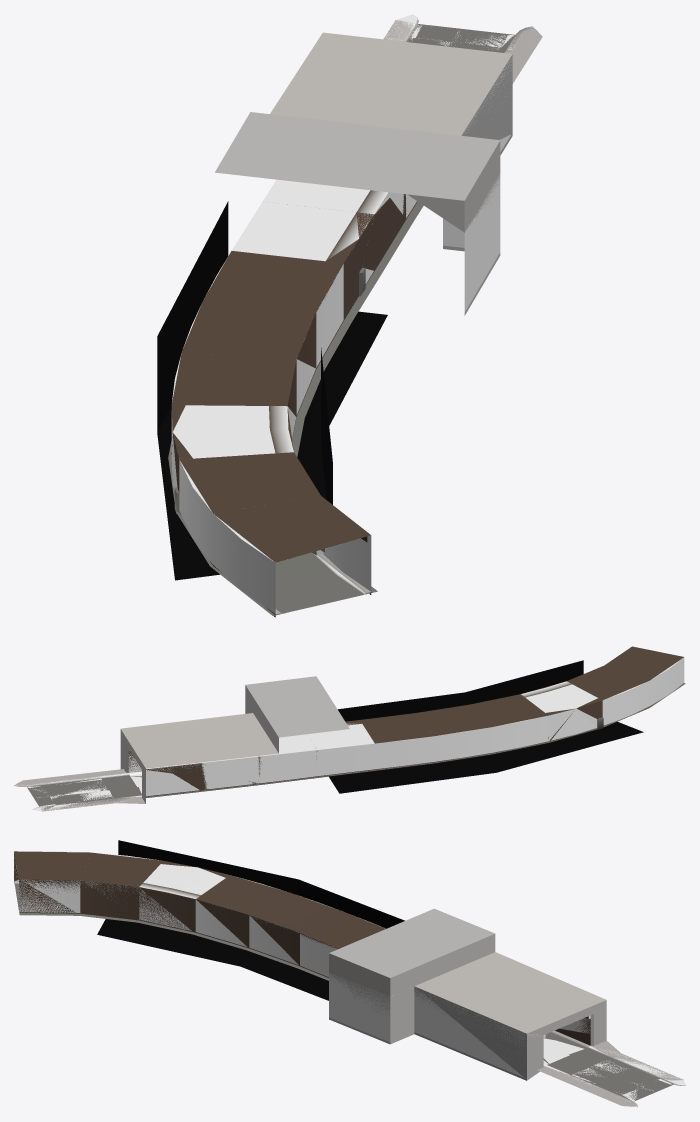
Rendered from tunnel_city3.dae.
3 renders of one model, top to bottom at view 1: azimuth 30°, elevation 25°; view 2: azimuth 150°, elevation 25°; view 3: azimuth 270°, elevation 25°, orthographic. The views are drawn at different scales.
Visible parts, largest first — view 1: tunnel_city3_a700, tunnel_city3_a4000, tunnel_city3_a1500; view 2: tunnel_city3_a4000, tunnel_city3_a700, tunnel_city3_a1500; view 3: tunnel_city3_a700, tunnel_city3_a1500, tunnel_city3_a4000.
Part boxes in pixels (box(x1,y1,x2,y2)): tunnel_city3_a700: box(168, 24, 514, 617); tunnel_city3_a4000: box(157, 14, 534, 613); tunnel_city3_a1500: box(171, 18, 542, 613); tunnel_city3_a4000: box(15, 657, 684, 811); tunnel_city3_a700: box(27, 646, 685, 804); tunnel_city3_a1500: box(14, 708, 597, 811); tunnel_city3_a700: box(14, 851, 673, 1101); tunnel_city3_a1500: box(14, 857, 685, 1107); tunnel_city3_a4000: box(14, 840, 685, 1106).
Size of the model in its own units: 93.61 by 117 by 14.5.
